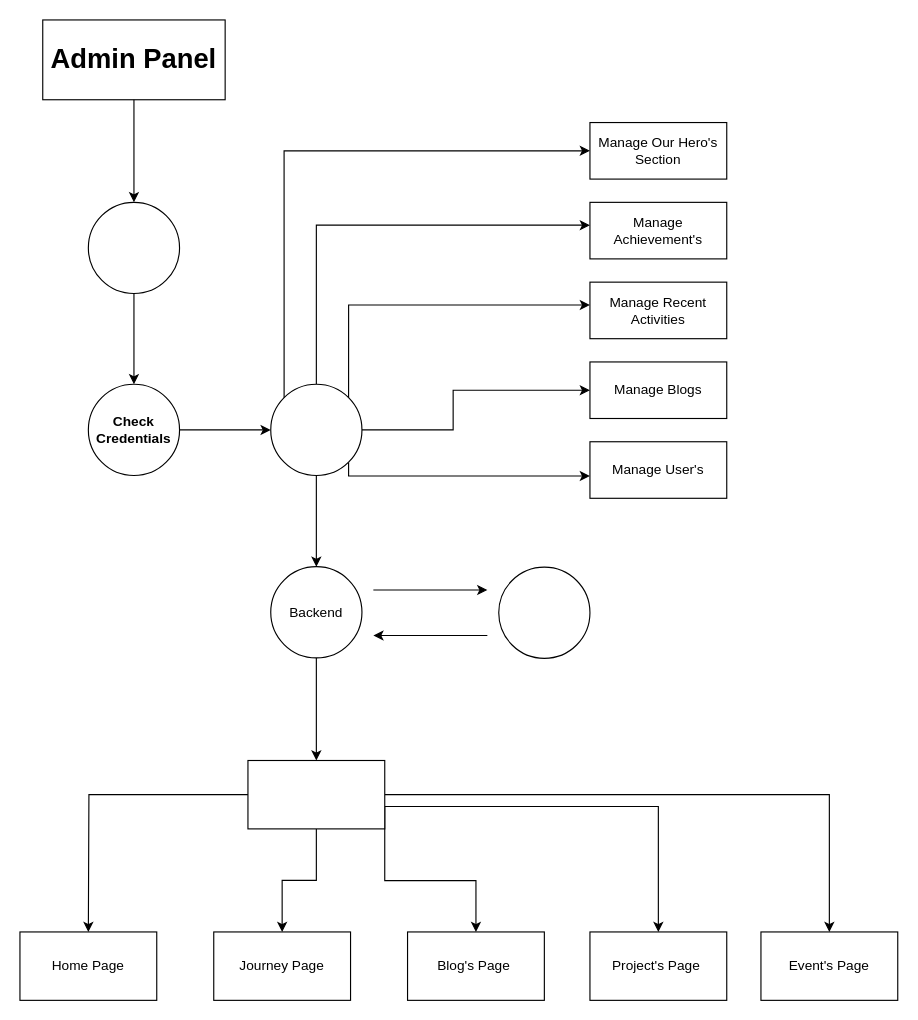
Image size: 918x1020. Some labels were removed from this diagram. Here are the shapes that lost their labels. From the top down, the centre of each, then its label:
the point at 133,247: Login to Panel
the point at 316,429: Manage Sections
the point at 544,612: Database (SQL)
the point at 316,794: Frontend
